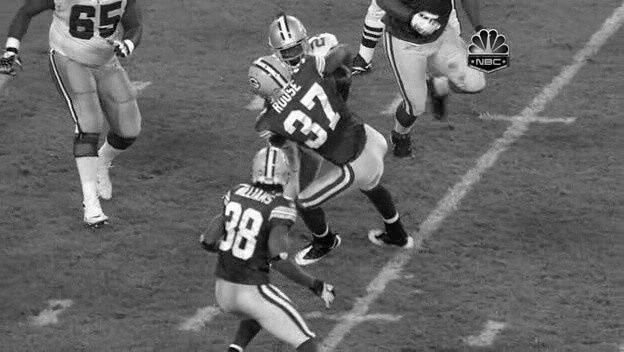person: (276, 25, 311, 70), (275, 25, 310, 70), (277, 25, 312, 70), (276, 24, 311, 69), (276, 26, 311, 71)
target_negative: (46, 163, 500, 334), (426, 12, 518, 203), (335, 272, 540, 326), (27, 199, 148, 254), (547, 283, 565, 338), (615, 216, 623, 326)
